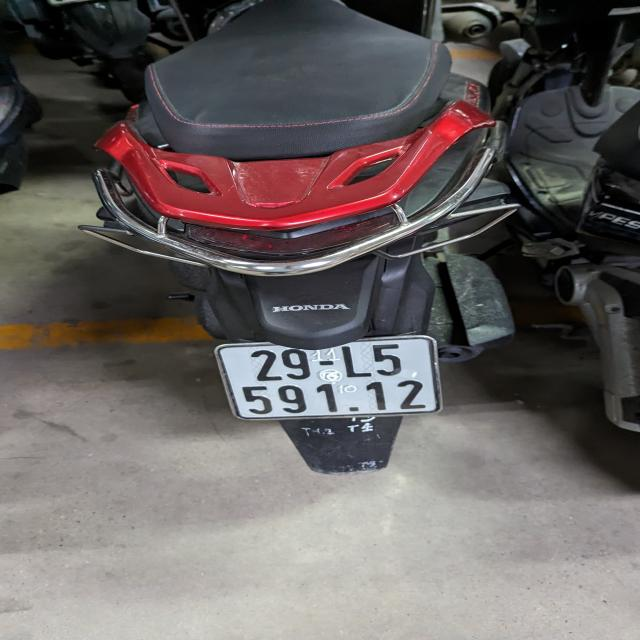License: (213, 334, 442, 420)
